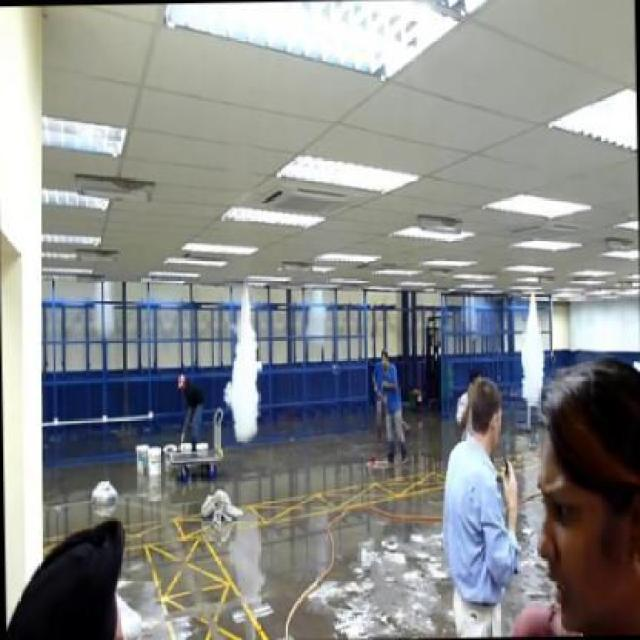fire: (223, 286, 266, 448), (515, 296, 548, 410)
